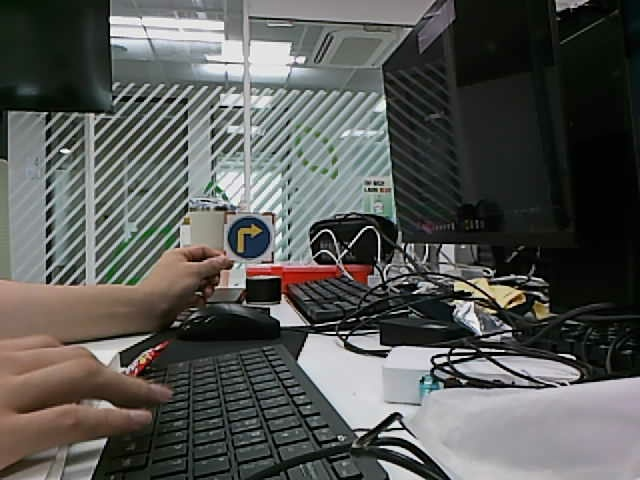right: (228, 217, 272, 259)
